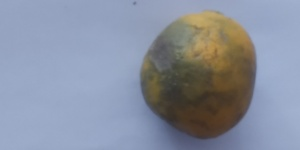BAD: (138, 9, 257, 140)
